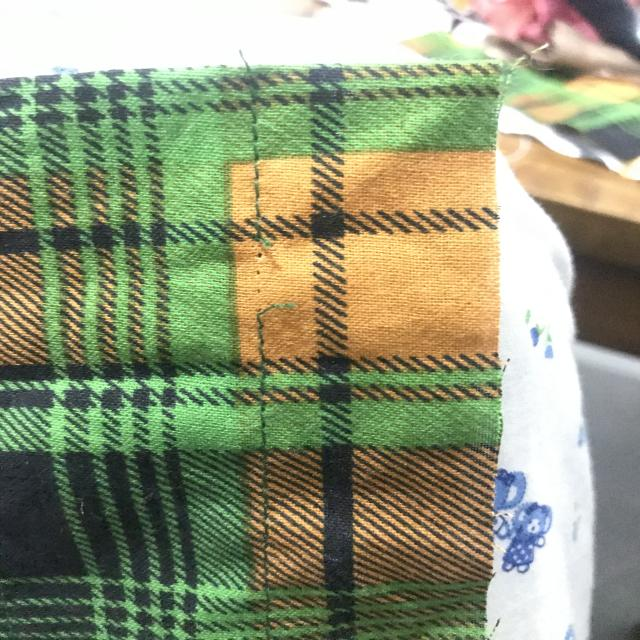broken: (247, 215, 296, 327)
